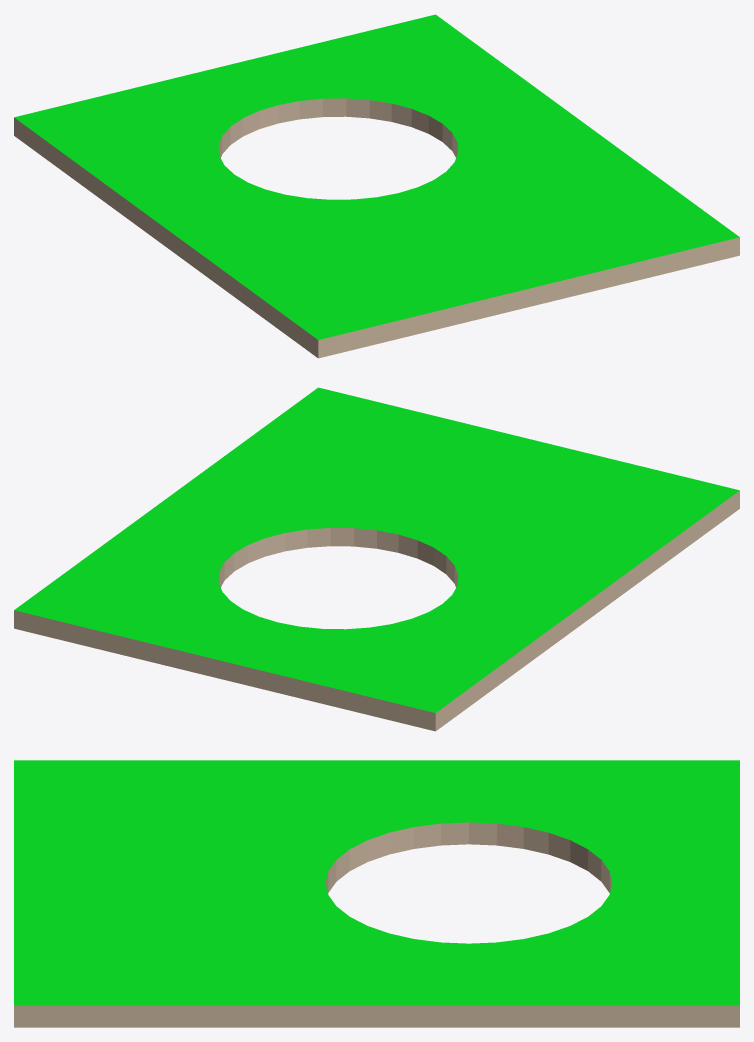
The model's file is MallDomeRoofFBX.fbx.
3 views of the same model, one above another, from view 1: azimuth 30°, elevation 25°; view 2: azimuth 150°, elevation 25°; view 3: azimuth 270°, elevation 25° (orthographic). The views are drawn at different scales.
Parts seen in each view (by area): view 1: DomeRoof; view 2: DomeRoof; view 3: DomeRoof.
Boxes of the visible parts, x1,y1,x2,y2 form: DomeRoof: (14, 14, 739, 358); DomeRoof: (14, 387, 739, 731); DomeRoof: (14, 760, 739, 1027).
Size of the model in its own units: 2400 by 100 by 3000.
